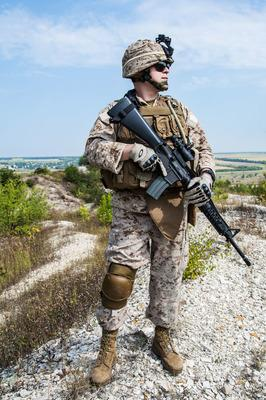up: (68, 26, 241, 390)
